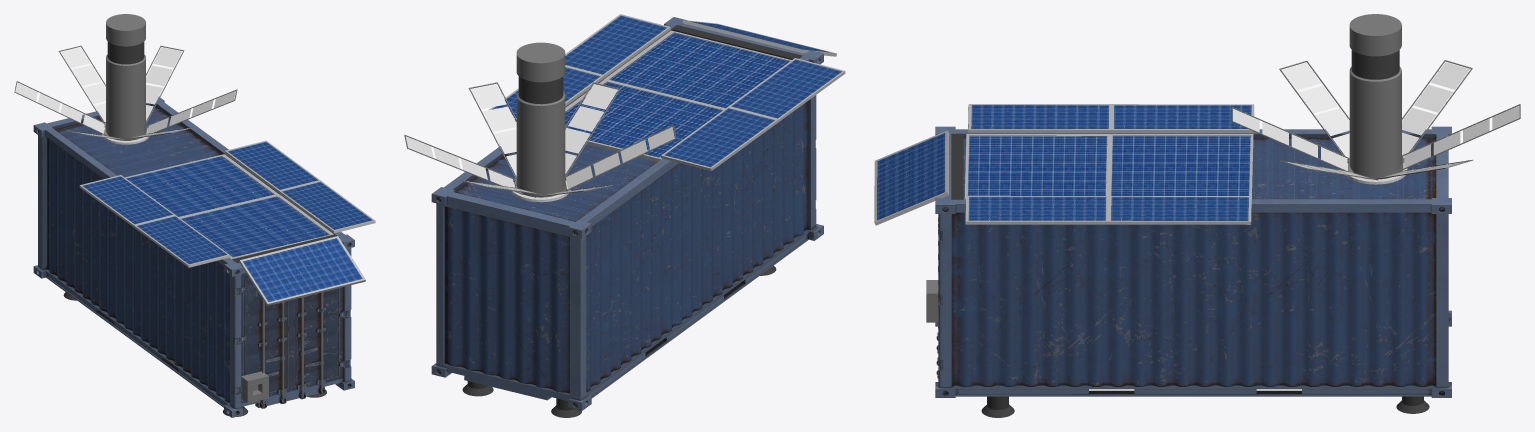
File: Desalinisation Station.glb
3 views of the same model, side by side, from view 1: azimuth 30°, elevation 25°; view 2: azimuth 150°, elevation 25°; view 3: azimuth 270°, elevation 25° (orthographic). The views are drawn at different scales.
Visible parts, largest first — view 1: Conteneur, Panel_solar__2_.005, Panel_solar__2_.002, Panel_solar__2_.003, Panel_solar__2_.006, Panel_solar__2_.004, Tower, Mirror1.007, Mirror1.010, Mirror1.001, Mirror1.008, Cube.007 (+1 smaller); view 2: Conteneur, Panel_solar__2_.002, Tower, Panel_solar__2_.006, Panel_solar__2_.005, Panel_solar__2_.004, Mirror1.009, Mirror1.008, Mirror1.011, Mirror1.010, Panel_solar__2_.003, Cube.004; view 3: Conteneur, Panel_solar__2_.002, Panel_solar__2_.005, Panel_solar__2_.004, Tower, Panel_solar__2_.006, Panel_solar__2_.003, Mirror1.011, Mirror1.001, Mirror1.007, Mirror1.009, Cube.004.
Part boxes in pixels (box(x1,y1,x2,y2)): Conteneur: box(33, 97, 354, 417); Panel_solar__2_.005: box(125, 154, 278, 218); Panel_solar__2_.002: box(180, 194, 333, 259); Panel_solar__2_.003: box(239, 236, 365, 305); Panel_solar__2_.006: box(79, 175, 230, 267); Panel_solar__2_.004: box(225, 140, 375, 233); Tower: box(106, 14, 145, 140); Mirror1.007: box(58, 45, 105, 126); Mirror1.010: box(146, 46, 184, 124); Mirror1.001: box(14, 81, 108, 135); Mirror1.008: box(141, 89, 237, 138); Cube.007: box(241, 371, 268, 403); Conteneur: box(431, 17, 823, 410); Panel_solar__2_.002: box(603, 30, 791, 110); Tower: box(516, 42, 565, 197); Panel_solar__2_.006: box(661, 58, 845, 171); Panel_solar__2_.005: box(565, 79, 724, 161); Panel_solar__2_.004: box(488, 14, 670, 121); Mirror1.009: box(565, 82, 620, 177); Mirror1.008: box(468, 82, 516, 179); Mirror1.011: box(563, 125, 676, 191); Mirror1.010: box(404, 135, 523, 194); Panel_solar__2_.003: box(682, 20, 836, 56); Cube.004: box(671, 25, 802, 59); Conteneur: box(935, 126, 1451, 397); Panel_solar__2_.002: box(964, 134, 1109, 199); Panel_solar__2_.005: box(1108, 134, 1253, 198); Panel_solar__2_.004: box(965, 195, 1251, 224); Tower: box(1349, 14, 1401, 179); Panel_solar__2_.006: box(968, 104, 1254, 132); Panel_solar__2_.003: box(874, 130, 949, 225); Mirror1.011: box(1279, 60, 1349, 162); Mirror1.001: box(1402, 60, 1472, 162); Mirror1.007: box(1396, 104, 1520, 172); Mirror1.009: box(1231, 107, 1353, 172); Cube.004: box(951, 133, 963, 199).
Size of the model in its own units: 10.33 by 14.57 by 23.83.
7 materials, 2 textured.
